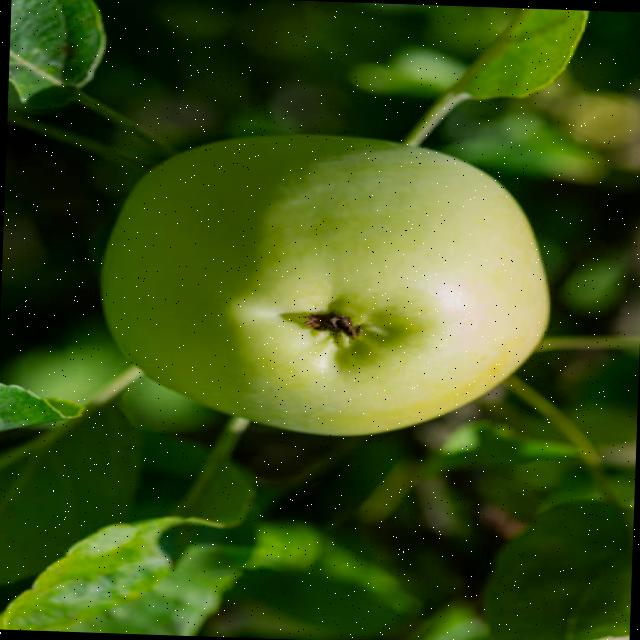Unripe: (98, 124, 557, 440)
